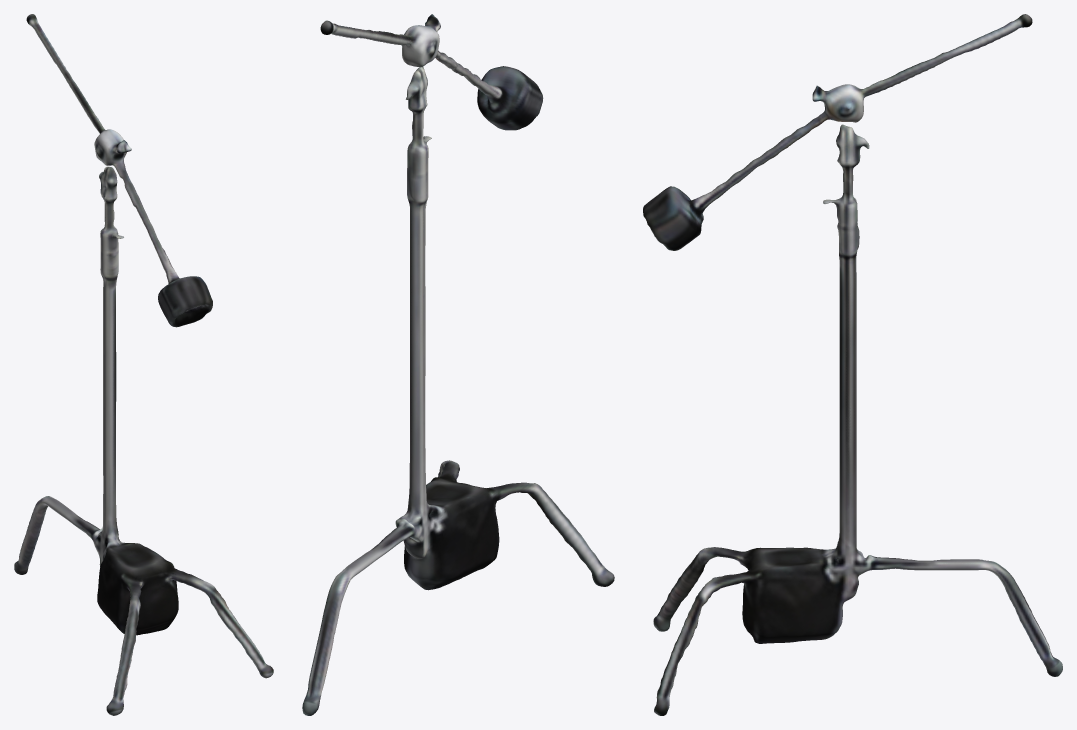
Rendered from c-stand.glb.
The picture shows the model from 3 angles, left to right: view 1: azimuth 30°, elevation 25°; view 2: azimuth 150°, elevation 25°; view 3: azimuth 270°, elevation 25°; orthographic projection. The views are drawn at different scales.
Parts seen in each view (by area): view 1: tripo_node_35c616b2-e962-47cc-994c-b3c29081b87a; view 2: tripo_node_35c616b2-e962-47cc-994c-b3c29081b87a; view 3: tripo_node_35c616b2-e962-47cc-994c-b3c29081b87a.
Boxes of the visible parts, x1,y1,x2,y2 form: tripo_node_35c616b2-e962-47cc-994c-b3c29081b87a: (14,14,273,715); tripo_node_35c616b2-e962-47cc-994c-b3c29081b87a: (302,14,614,715); tripo_node_35c616b2-e962-47cc-994c-b3c29081b87a: (643,14,1062,715).
Size of the model in its own units: 0.2771 by 0.9108 by 0.5248.
Materials: 1 (1 with a texture image).
